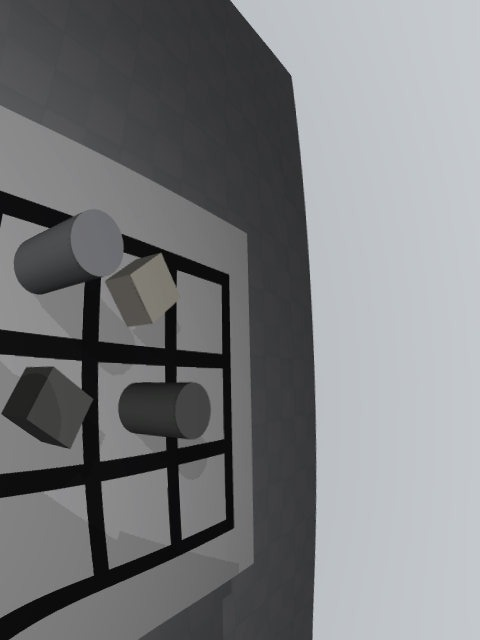can: (14, 209, 124, 294)
cube: (1, 366, 94, 449)
cylinder: (118, 382, 211, 440)
foam: (105, 253, 180, 327)
